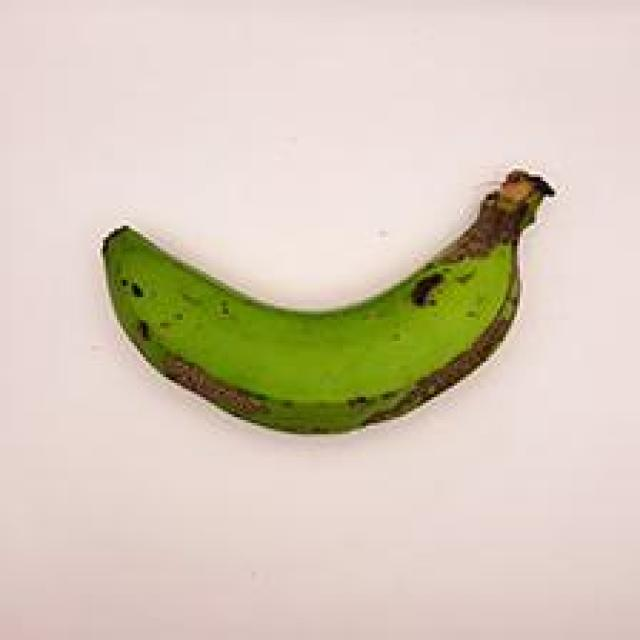Raw: (85, 122, 566, 472)
